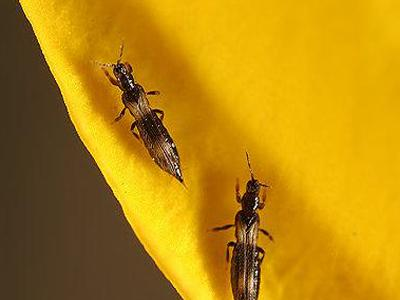Phlaeothripidae: (91, 43, 190, 190), (209, 152, 276, 300)
